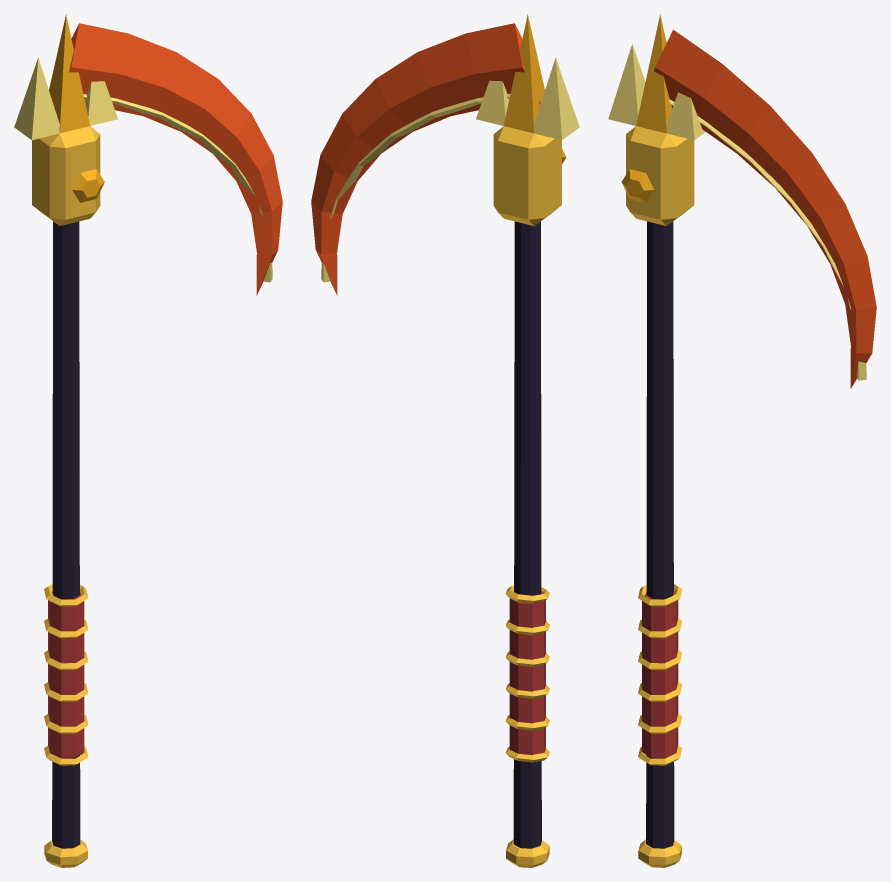
File: FlameScythe.fbx
3 views of the same model, side by side, from view 1: azimuth 30°, elevation 25°; view 2: azimuth 150°, elevation 25°; view 3: azimuth 330°, elevation 25° (orthographic).
Parts seen in each view (by area): view 1: FlameScythe; view 2: FlameScythe; view 3: FlameScythe.
Part boxes in pixels (<box>): FlameScythe: <box>14,14,282,867</box>; FlameScythe: <box>311,14,579,867</box>; FlameScythe: <box>608,14,876,867</box>.
Size of the model in its own units: 2.05 by 6.39 by 0.55.
Materials: 1 (1 with a texture image).
